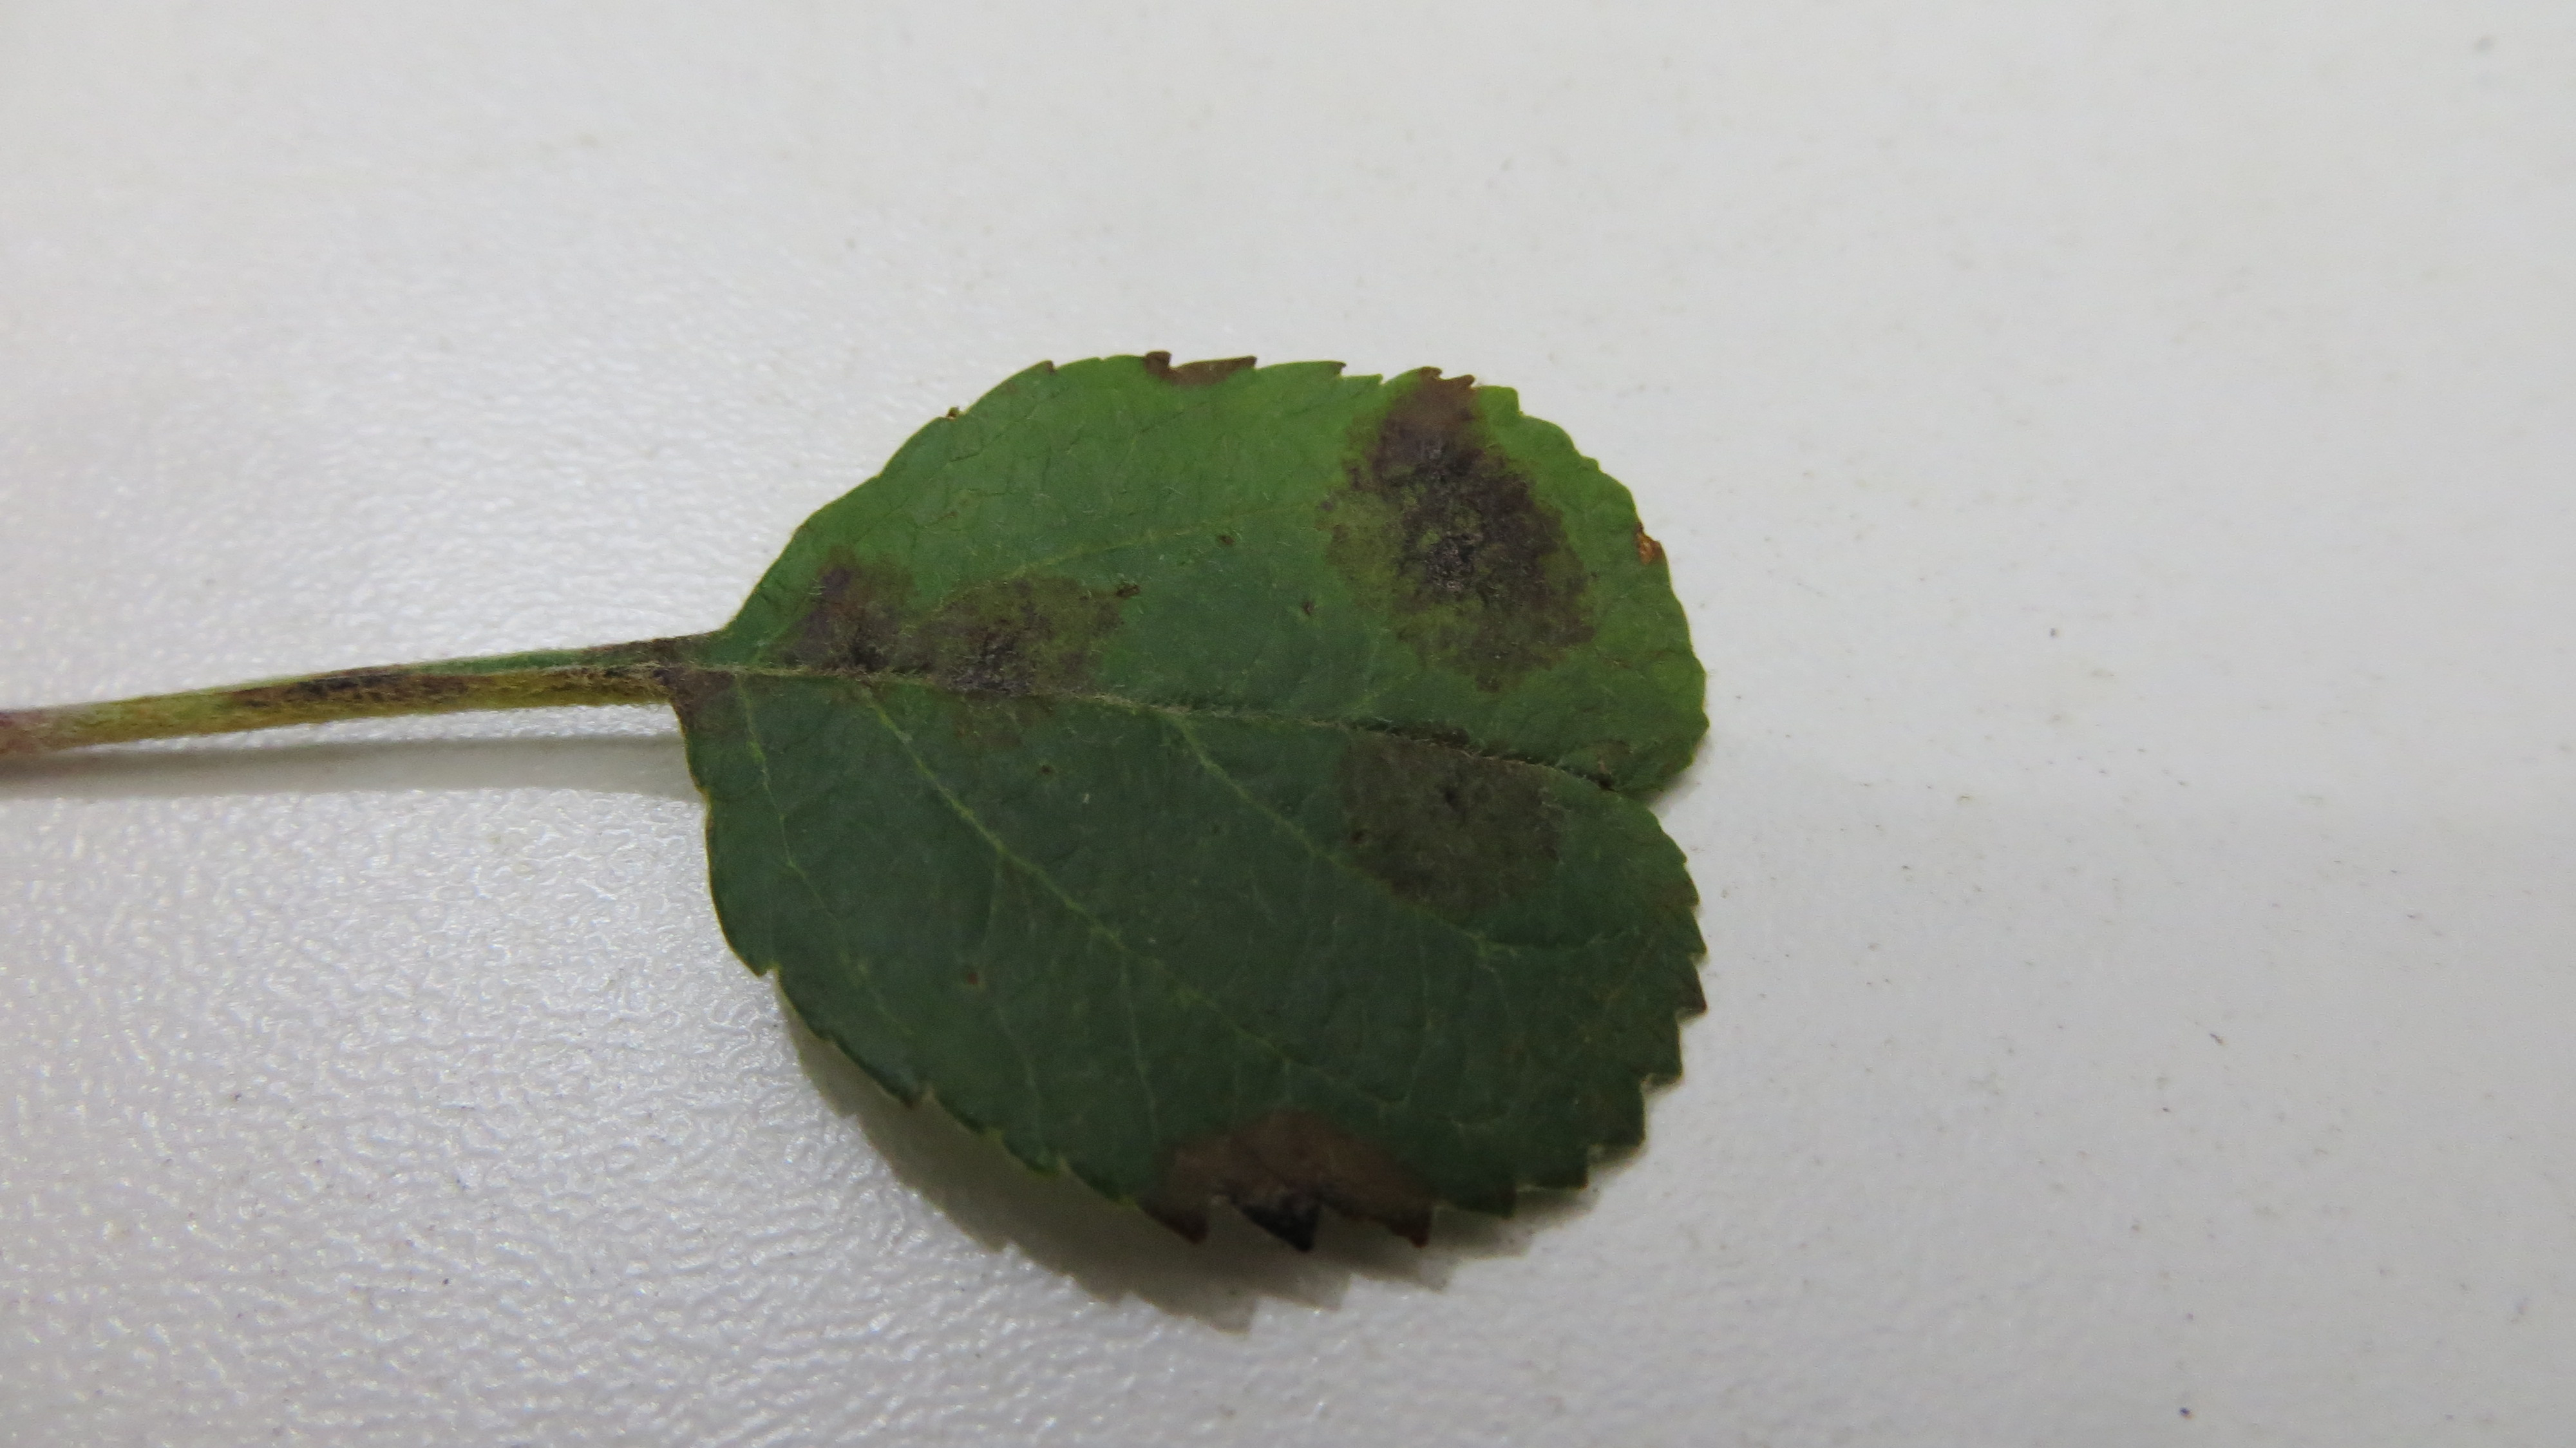sarna: (1325, 359, 1589, 673), (1115, 1090, 1444, 1232), (1343, 694, 1568, 901), (927, 556, 1141, 731), (780, 533, 932, 683), (1136, 338, 1261, 405), (1617, 504, 1670, 572)
